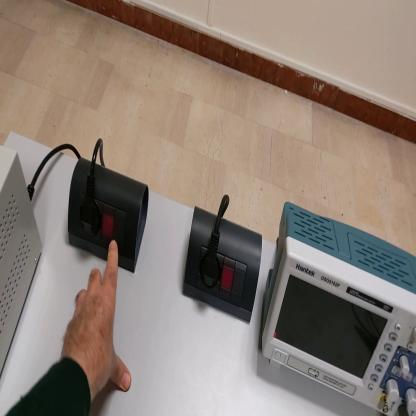hand: (64, 238, 138, 400)
oscilloscope: (259, 200, 416, 415)
power supply: (1, 143, 44, 376)
socket: (67, 154, 151, 280), (180, 207, 264, 325)
